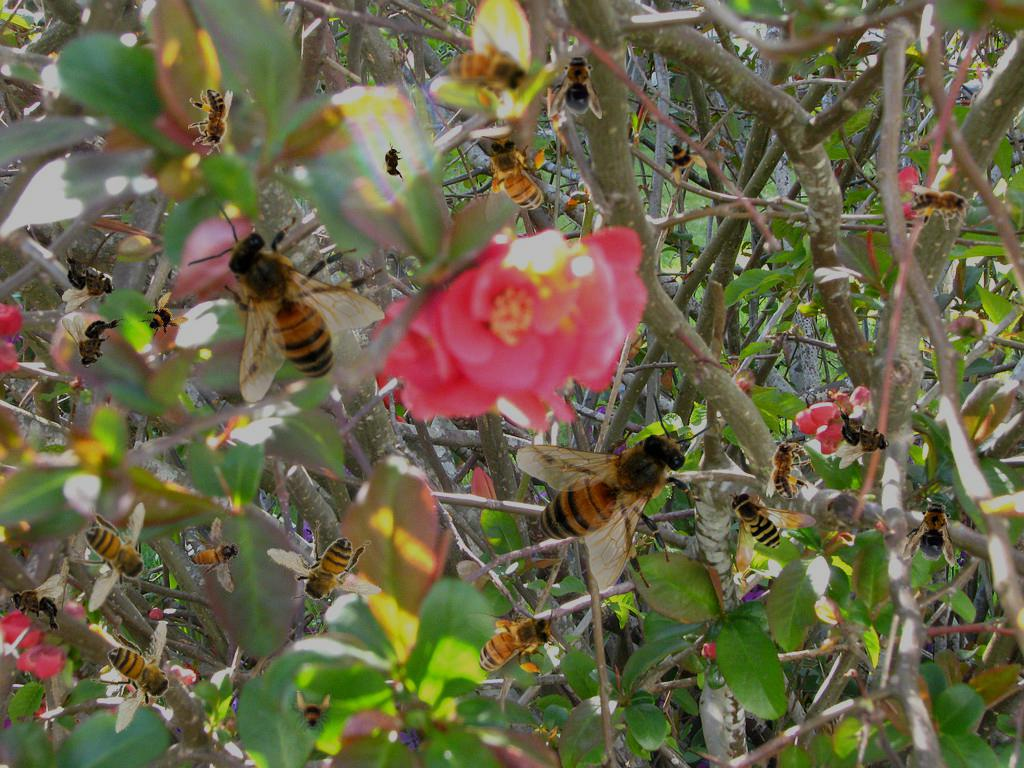Bee: (515, 392, 719, 591), (186, 199, 385, 403), (428, 13, 544, 126), (263, 514, 384, 620), (86, 619, 187, 735), (65, 502, 159, 613), (729, 490, 817, 572), (481, 130, 549, 223), (466, 609, 559, 677), (185, 513, 249, 594), (902, 494, 962, 568), (653, 127, 715, 189), (131, 285, 193, 347), (550, 51, 602, 119), (836, 407, 889, 469), (62, 315, 124, 368), (10, 574, 63, 636), (62, 251, 115, 313), (910, 185, 976, 230), (188, 89, 233, 155), (766, 433, 811, 499), (289, 690, 333, 734), (382, 142, 404, 182)
